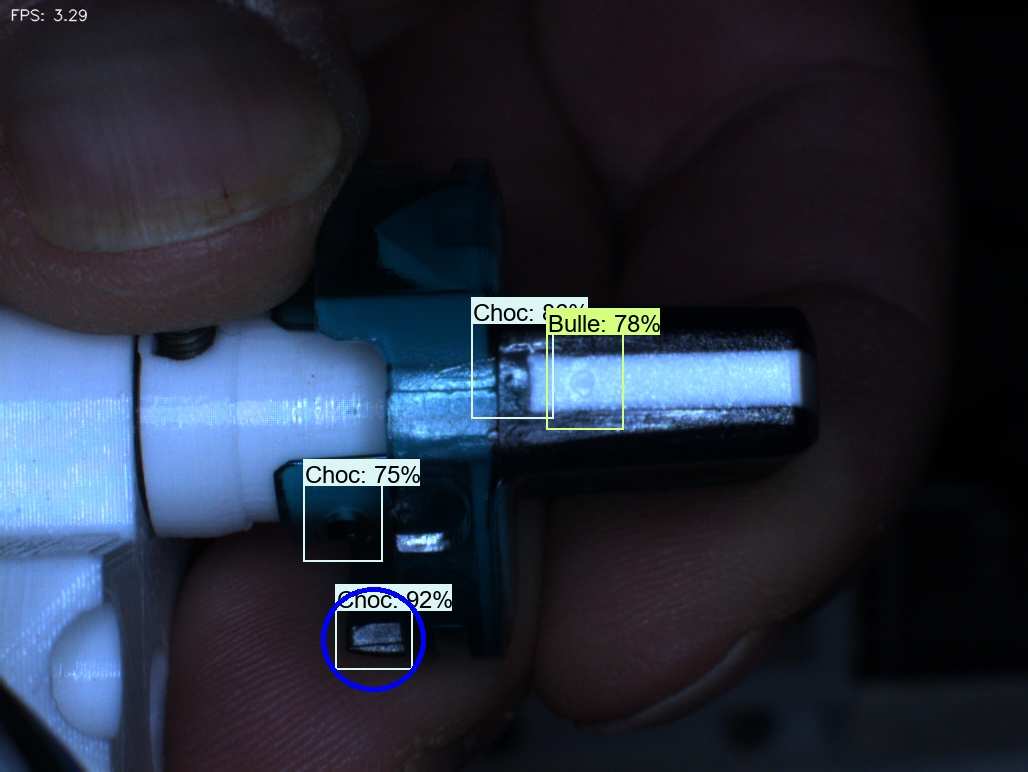DentOk: (347, 196, 423, 282)
